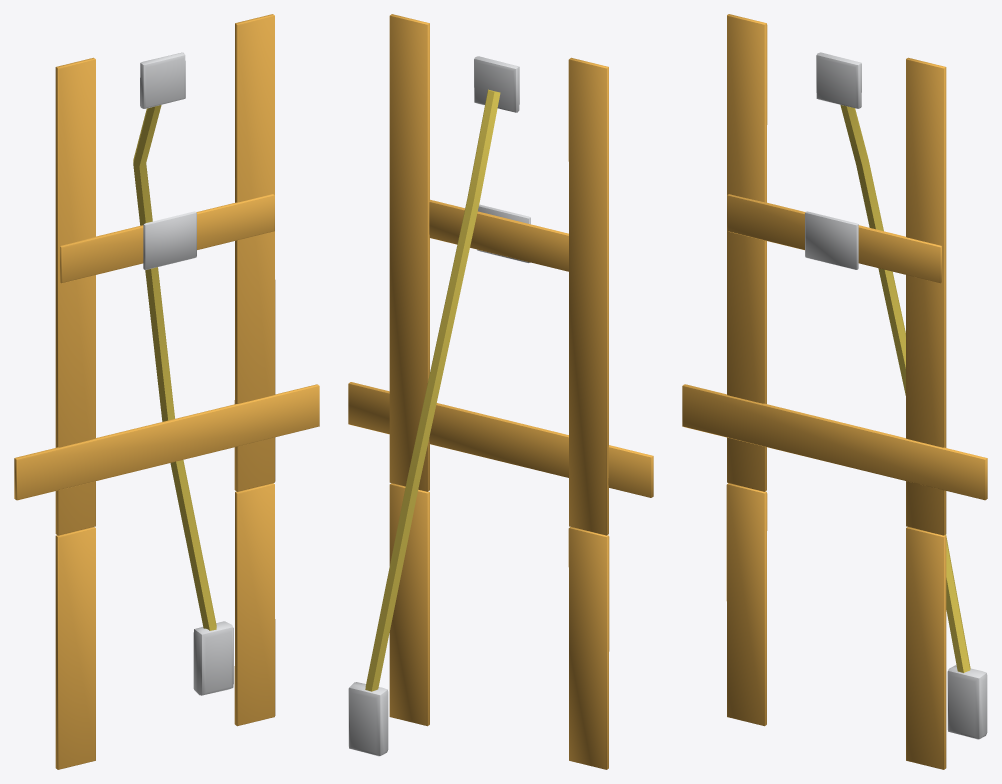
File: SER-EPI-006_lod1.glb
The picture shows the model from 3 angles, left to right: view 1: azimuth 30°, elevation 25°; view 2: azimuth 150°, elevation 25°; view 3: azimuth 330°, elevation 25°; orthographic projection.
Parts seen in each view (by area): view 1: SER-EPI-006_alca-1, SER-EPI-006_alca1, SER-EPI-006_cintura, SER-EPI-006_perna-1, SER-EPI-006_perna1, SER-EPI-006_peito, SER-EPI-006_talabarte, SER-EPI-006_mosquetao, SER-EPI-006_fivela, SER-EPI-006_argola; view 2: SER-EPI-006_alca-1, SER-EPI-006_alca1, SER-EPI-006_cintura, SER-EPI-006_perna-1, SER-EPI-006_talabarte, SER-EPI-006_perna1, SER-EPI-006_peito, SER-EPI-006_mosquetao, SER-EPI-006_argola; view 3: SER-EPI-006_alca1, SER-EPI-006_alca-1, SER-EPI-006_cintura, SER-EPI-006_perna1, SER-EPI-006_perna-1, SER-EPI-006_peito, SER-EPI-006_talabarte, SER-EPI-006_mosquetao, SER-EPI-006_fivela, SER-EPI-006_argola.
Boxes of the visible parts, x1,y1,x2,y2 form: SER-EPI-006_alca-1: (55, 57, 95, 535); SER-EPI-006_alca1: (234, 14, 275, 491); SER-EPI-006_cintura: (14, 384, 319, 500); SER-EPI-006_perna-1: (55, 527, 95, 769); SER-EPI-006_perna1: (234, 483, 275, 726); SER-EPI-006_peito: (60, 194, 274, 283); SER-EPI-006_talabarte: (133, 105, 216, 630); SER-EPI-006_mosquetao: (193, 621, 233, 695); SER-EPI-006_fivela: (143, 211, 196, 269); SER-EPI-006_argola: (140, 52, 185, 108); SER-EPI-006_alca-1: (568, 57, 608, 535); SER-EPI-006_alca1: (389, 14, 429, 491); SER-EPI-006_cintura: (348, 382, 653, 497); SER-EPI-006_perna-1: (568, 527, 609, 769); SER-EPI-006_talabarte: (365, 89, 500, 691); SER-EPI-006_perna1: (389, 483, 429, 726); SER-EPI-006_peito: (429, 199, 568, 271); SER-EPI-006_mosquetao: (348, 682, 388, 756); SER-EPI-006_argola: (474, 56, 519, 112); SER-EPI-006_alca1: (906, 57, 946, 535); SER-EPI-006_alca-1: (727, 14, 767, 491); SER-EPI-006_cintura: (682, 384, 987, 500); SER-EPI-006_perna1: (906, 527, 946, 769); SER-EPI-006_perna-1: (726, 483, 767, 726); SER-EPI-006_peito: (727, 194, 941, 283); SER-EPI-006_talabarte: (840, 105, 970, 672); SER-EPI-006_mosquetao: (947, 665, 987, 739); SER-EPI-006_fivela: (805, 211, 858, 269); SER-EPI-006_argola: (816, 52, 861, 108).
Size of the model in its own units: 0.3383 by 0.7494 by 0.1007.
